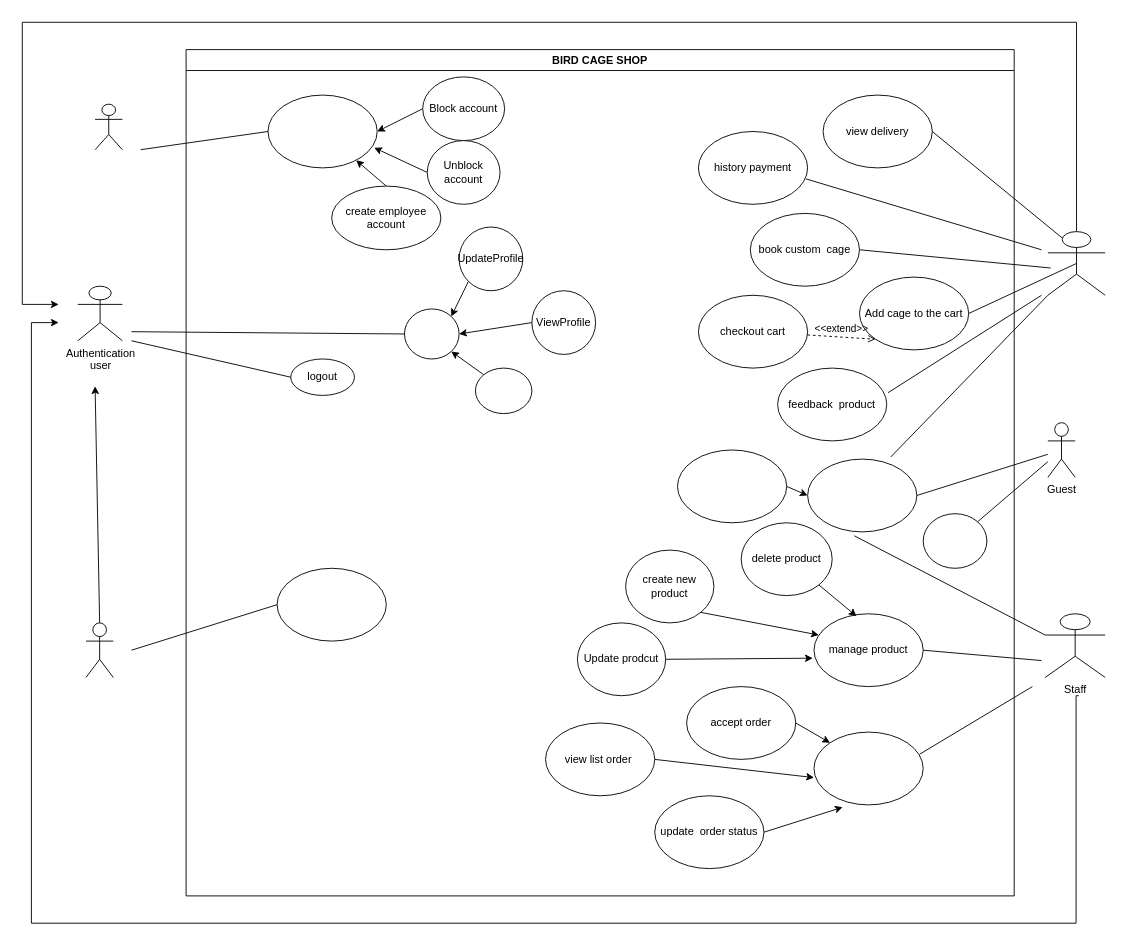
The diagram is 1121 pixels wide and 946 high, and some of its shapes have lost their labels. Each missing label, with the box of its shape:
Admin: (94, 103, 122, 150)
Change Password: (475, 367, 532, 414)
Customer: (1047, 231, 1105, 295)
Login: (922, 513, 987, 568)
Manage Account: (267, 94, 377, 168)
manage order: (813, 731, 923, 805)
Manager: (85, 622, 113, 677)
mange Profile: (404, 308, 459, 359)
view dashBoard: (276, 567, 386, 641)
view list cage: (807, 458, 917, 532)
view product detail: (677, 449, 787, 523)
